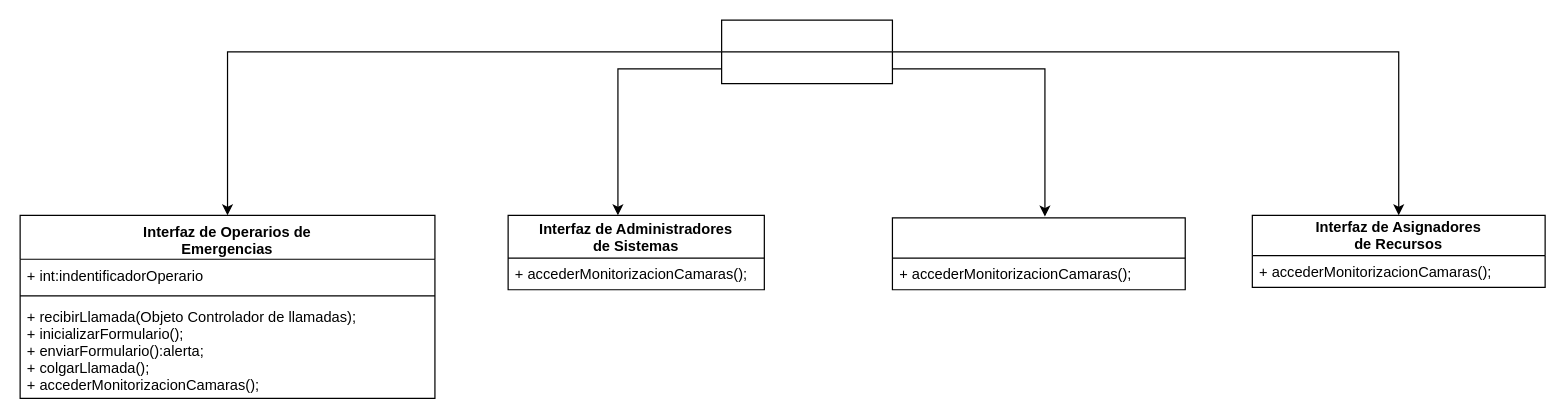
The diagram is 1565 pixels wide and 418 high, and some of its shapes have lost their labels. The box of each missing label's shape, as (x1, y1, x2, y2) in pixels:
Aplicación Facade: (720, 19, 892, 84)
Interfaz de Operadores de Unidades Activas: (891, 217, 1185, 290)
